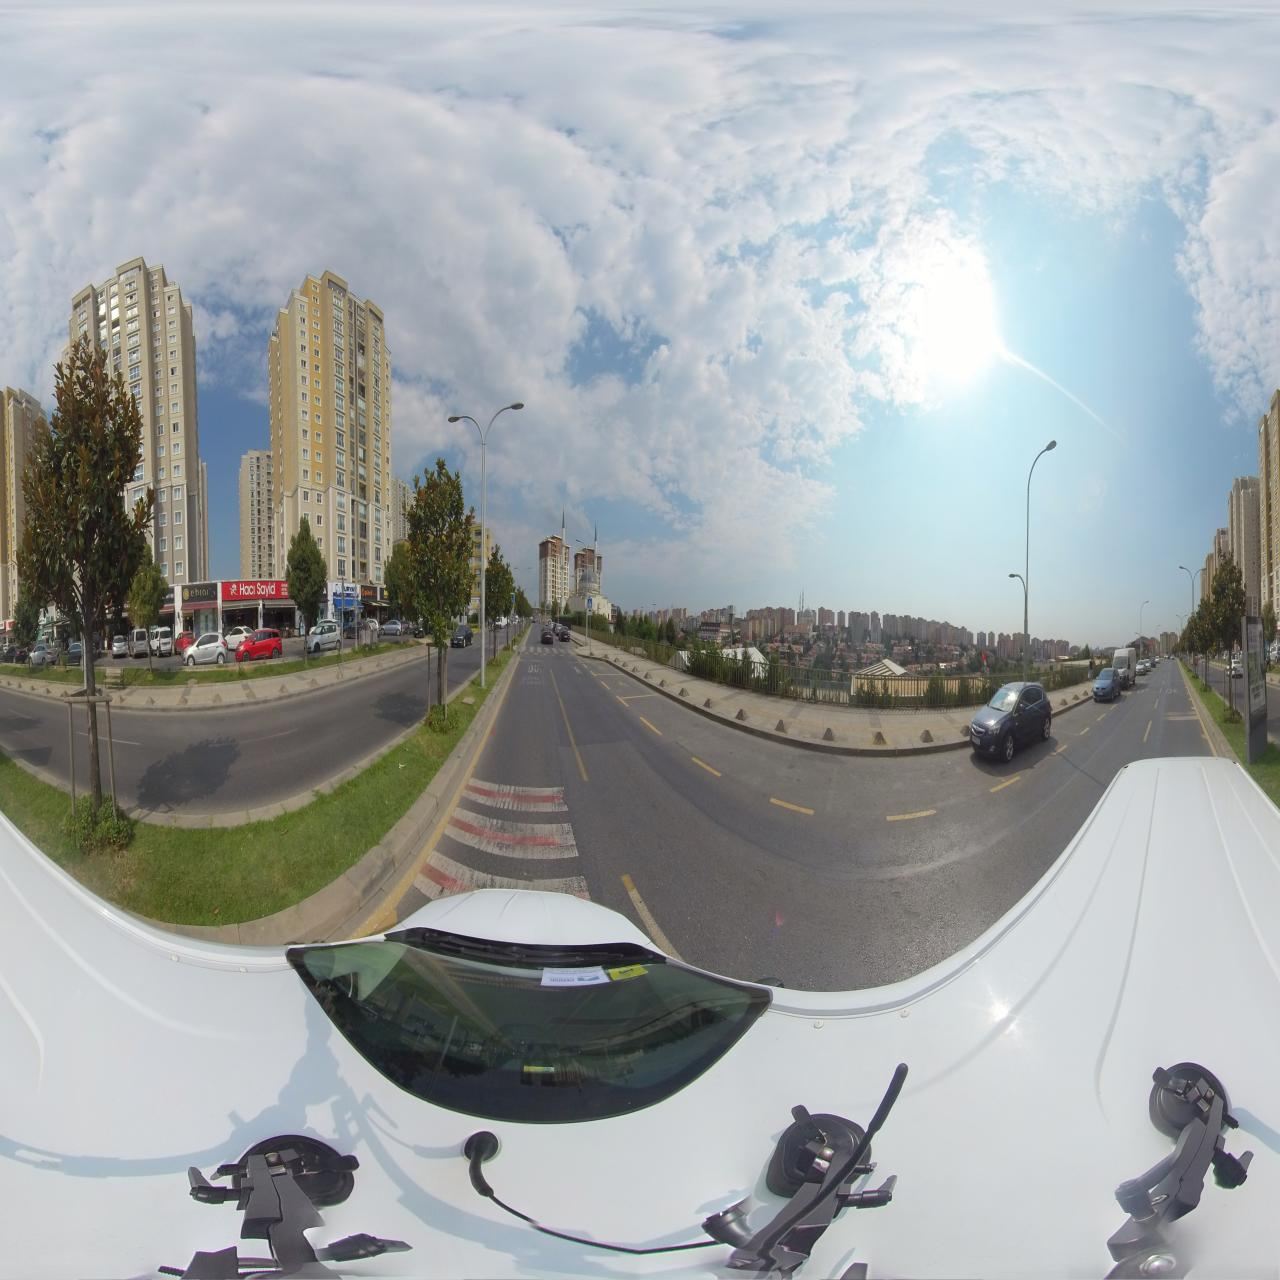SignStore: (222, 581, 286, 600), (182, 583, 217, 604), (361, 584, 377, 600), (345, 584, 354, 597), (380, 587, 388, 600)
